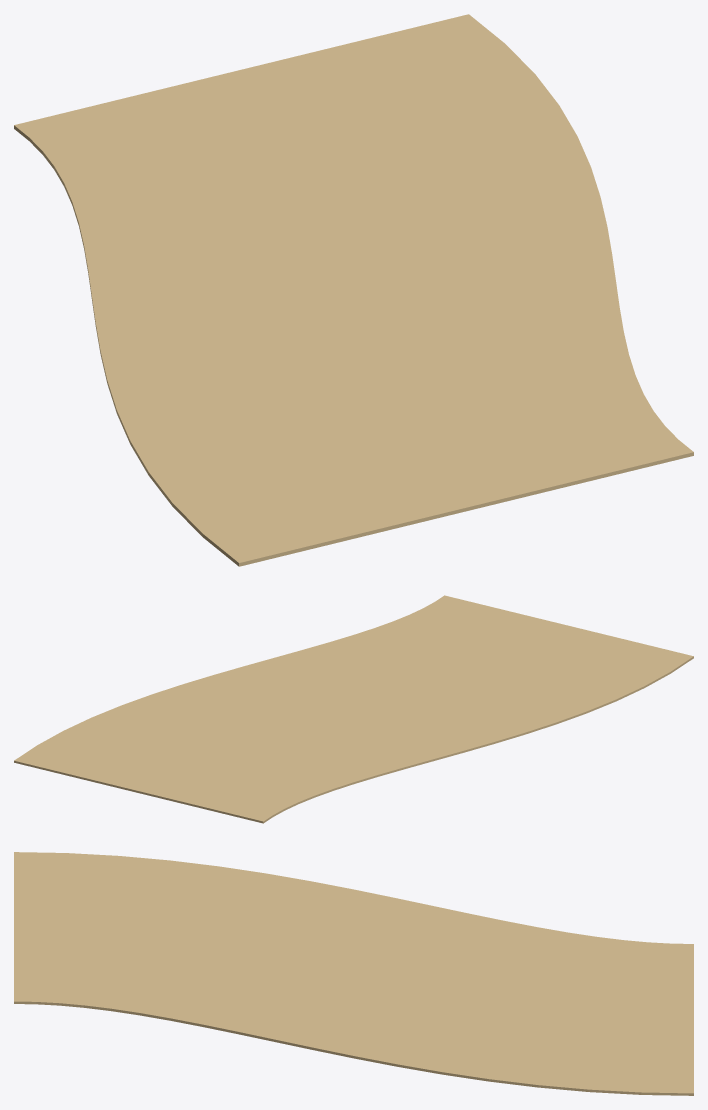
3 views of the same model, one above another, from view 1: azimuth 30°, elevation 25°; view 2: azimuth 150°, elevation 25°; view 3: azimuth 270°, elevation 25° (orthographic). The views are drawn at different scales.
Visible parts, largest first — view 1: S形河流_独立纸底.001; view 2: S形河流_独立纸底.001; view 3: S形河流_独立纸底.001.
Boxes of the visible parts, x1=… form: S形河流_独立纸底.001: x1=14, y1=14, x2=693, y2=566; S形河流_独立纸底.001: x1=14, y1=595, x2=693, y2=823; S形河流_独立纸底.001: x1=14, y1=852, x2=693, y2=1095.
Size of the model in its own units: 1.68 by 0.008 by 2.
